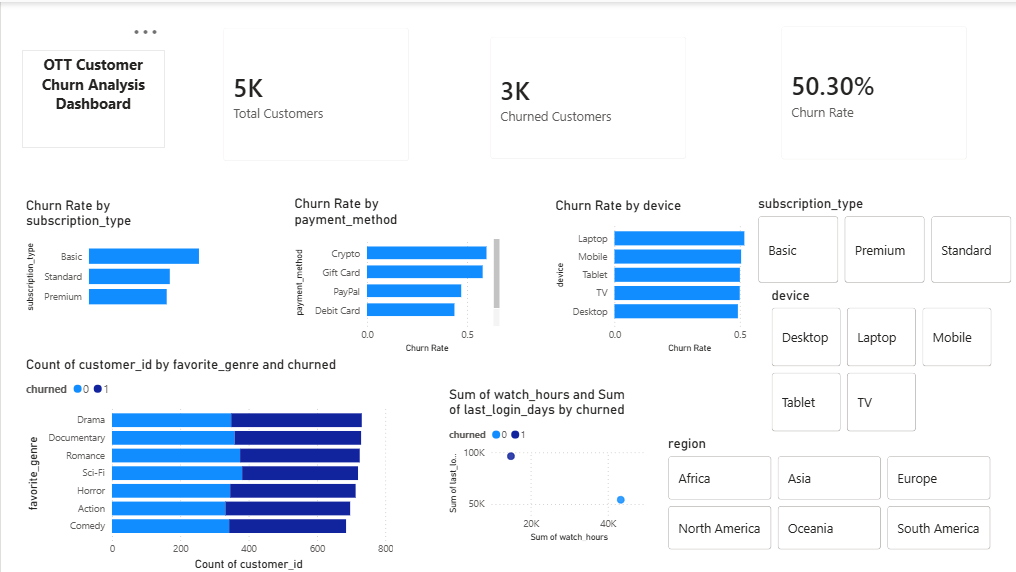

The dashboard page shown, as its layout file describes it:
{"tool":"powerbi","page":{"name":"Page 1","canvas":[1280,720],"ordinal":0},"visuals":[{"type":"cardVisual","fields":{"Data":["netflix_customer_churn.Total Customers"]},"box":[262.7,15.1,268.3,202.2],"z":0},{"type":"cardVisual","fields":{"Data":["netflix_customer_churn.Churn Rate"]},"box":[965.7,13.2,268.3,202.2],"z":1000},{"type":"cardVisual","fields":{"Data":["netflix_customer_churn.Churned Customers"]},"box":[599.1,26.5,281.6,189],"z":2000},{"type":"clusteredBarChart","fields":{"Category":["netflix_customer_churn.subscription_type"],"Y":["netflix_customer_churn.Churn Rate"]},"box":[26.5,245.7,268.3,151.2],"z":3000},{"type":"clusteredBarChart","fields":{"Category":["netflix_customer_churn.payment_method"],"Y":["netflix_customer_churn.Churn Rate"]},"box":[364.7,243.8,268.3,202.2],"z":4000},{"type":"clusteredBarChart","fields":{"Category":["netflix_customer_churn.device"],"Y":["netflix_customer_churn.Churn Rate"]},"box":[693.5,245.7,281.6,200.3],"z":5000},{"type":"barChart","fields":{"Category":["netflix_customer_churn.favorite_genre"],"Series":["netflix_customer_churn.churned"],"Y":["CountNonNull(netflix_customer_churn.customer_id)"]},"box":[26.5,446,472.4,274],"z":6000},{"type":"scatterChart","fields":{"X":["Sum(netflix_customer_churn.watch_hours)"],"Y":["Sum(netflix_customer_churn.last_login_days)"],"Series":["netflix_customer_churn.churned"]},"box":[559.4,483.8,268.3,200.3],"z":7000},{"type":"textbox","box":[26.5,60.5,179.5,122.8],"z":8000},{"type":"advancedSlicerVisual","fields":{"Values":["netflix_customer_churn.subscription_type"]},"box":[948.7,243.8,330.7,115.3],"z":9000},{"type":"advancedSlicerVisual","fields":{"Values":["netflix_customer_churn.device"]},"box":[965.7,359.1,287.2,187.1],"z":10000},{"type":"advancedSlicerVisual","fields":{"Values":["netflix_customer_churn.region"]},"box":[835.3,546.1,417.6,149.3],"z":11000}]}

Visuals, with their boxes in screenshot pixels (x1, y1, x2, y2), scaled from the page's 1280x720 canvas onto the 1016x572 screenshot:
cardVisual - netflix_customer_churn.Total Customers: x1=209, y1=12, x2=421, y2=173
cardVisual - netflix_customer_churn.Churn Rate: x1=767, y1=10, x2=979, y2=171
cardVisual - netflix_customer_churn.Churned Customers: x1=476, y1=21, x2=699, y2=171
clusteredBarChart - netflix_customer_churn.subscription_type x netflix_customer_churn.Churn Rate: x1=21, y1=195, x2=234, y2=315
clusteredBarChart - netflix_customer_churn.payment_method x netflix_customer_churn.Churn Rate: x1=289, y1=194, x2=502, y2=354
clusteredBarChart - netflix_customer_churn.device x netflix_customer_churn.Churn Rate: x1=550, y1=195, x2=774, y2=354
barChart - netflix_customer_churn.favorite_genre x netflix_customer_churn.churned: x1=21, y1=354, x2=396, y2=571
scatterChart - Sum(netflix_customer_churn.watch_hours) x Sum(netflix_customer_churn.last_login_days): x1=444, y1=384, x2=657, y2=543
textbox: x1=21, y1=48, x2=164, y2=146
advancedSlicerVisual - netflix_customer_churn.subscription_type: x1=753, y1=194, x2=1015, y2=285
advancedSlicerVisual - netflix_customer_churn.device: x1=767, y1=285, x2=994, y2=434
advancedSlicerVisual - netflix_customer_churn.region: x1=663, y1=434, x2=994, y2=552
